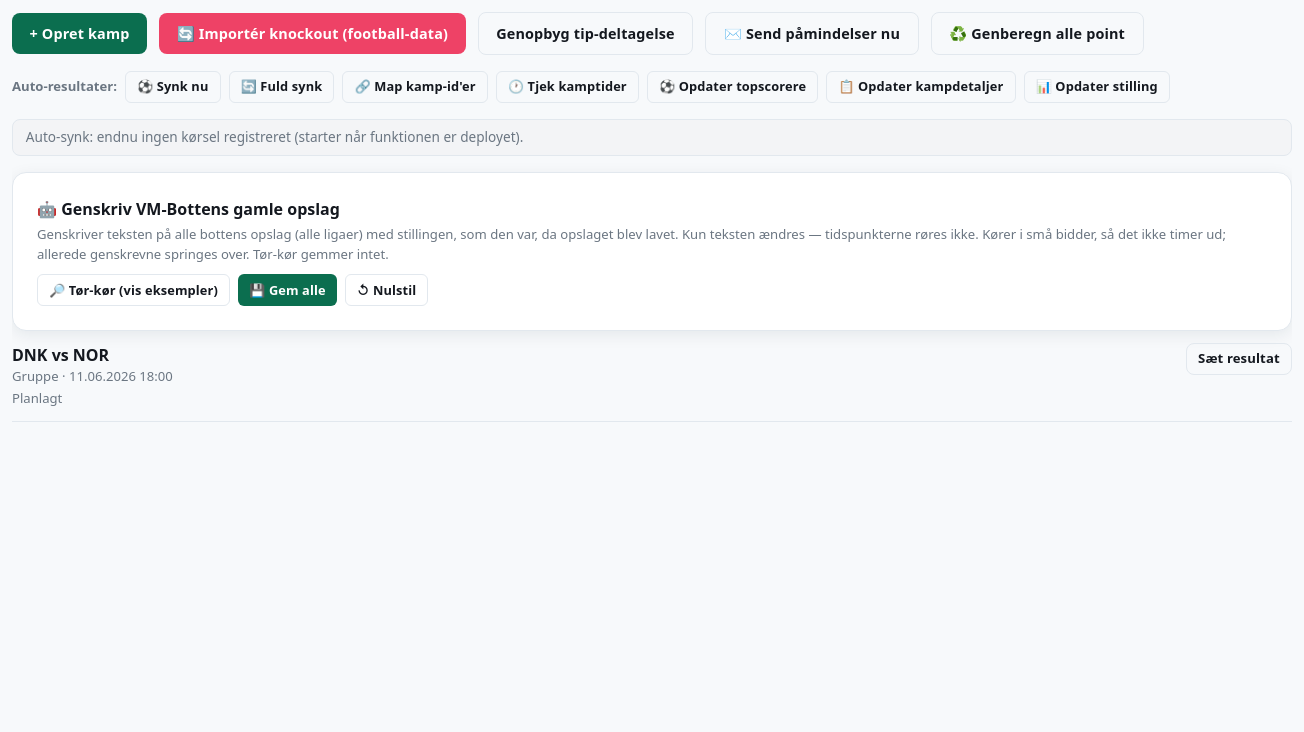
MatchesTab › åbner resultat-formular ved klik på Sæt resultat
Click the button "Sæt resultat" at (1239, 359), box [1186,343,1292,375]
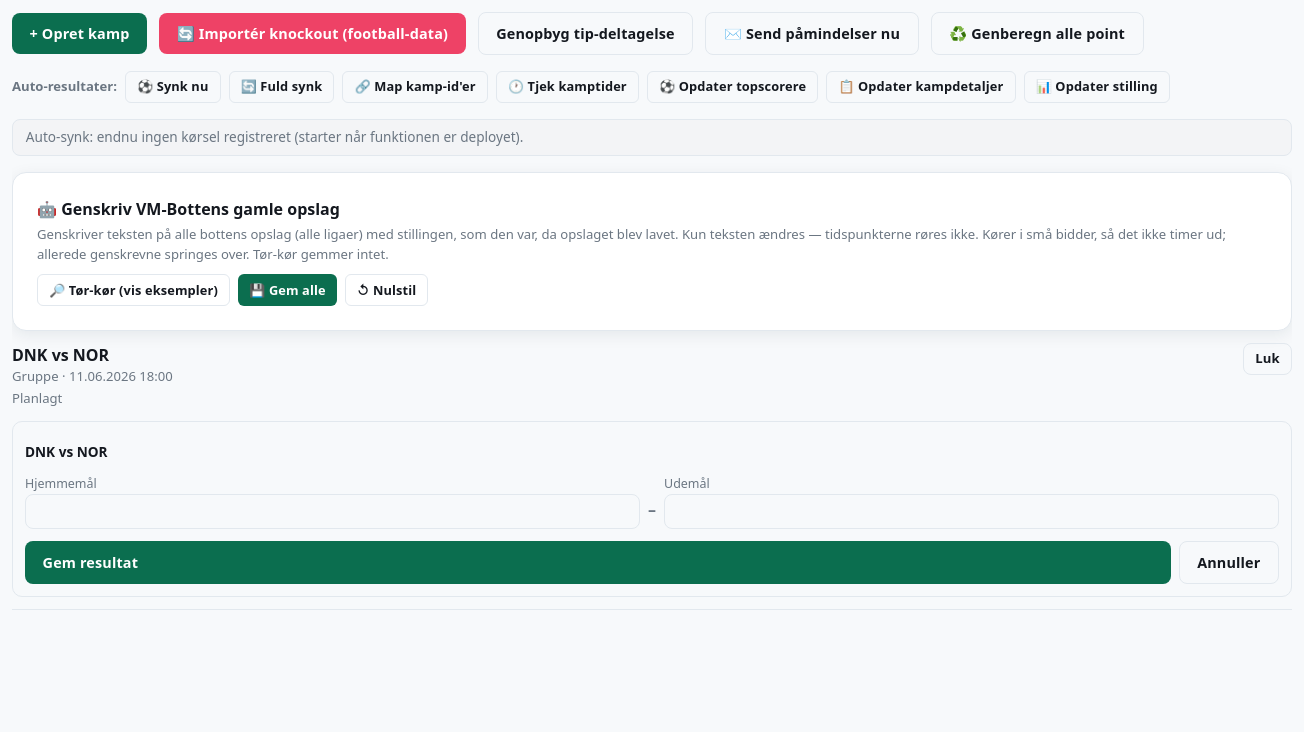
Expected: the button "Gem resultat" is shown, [25,541,1170,584]
